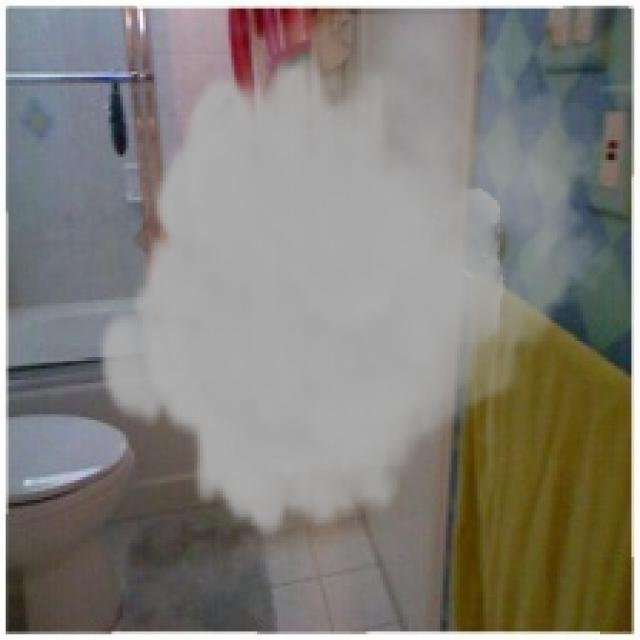smoke: (94, 14, 617, 540)
